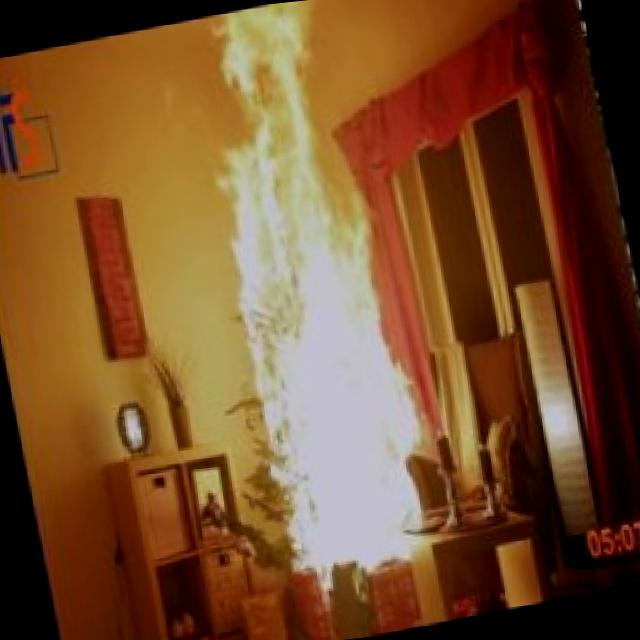fire: (184, 0, 438, 581)
